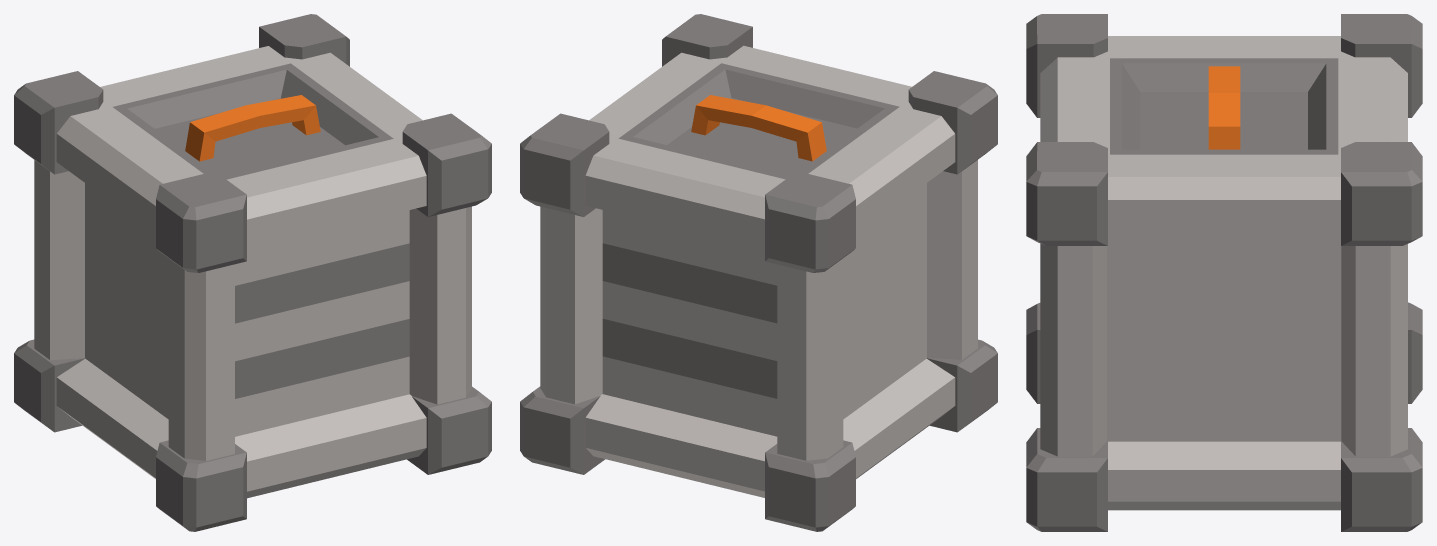
Rendered from scifi_scifi-cube.fbx.
3 renders of one model, left to right at view 1: azimuth 30°, elevation 25°; view 2: azimuth 150°, elevation 25°; view 3: azimuth 270°, elevation 25°, orthographic. The views are drawn at different scales.
Visible parts, largest first — view 1: scifi_scifi_cube; view 2: scifi_scifi_cube; view 3: scifi_scifi_cube.
Part boxes in pixels (bbox=[...]): scifi_scifi_cube: bbox=[14, 14, 491, 531]; scifi_scifi_cube: bbox=[520, 14, 997, 531]; scifi_scifi_cube: bbox=[1026, 14, 1422, 531].
Size of the model in its own units: 199 by 200 by 200.
